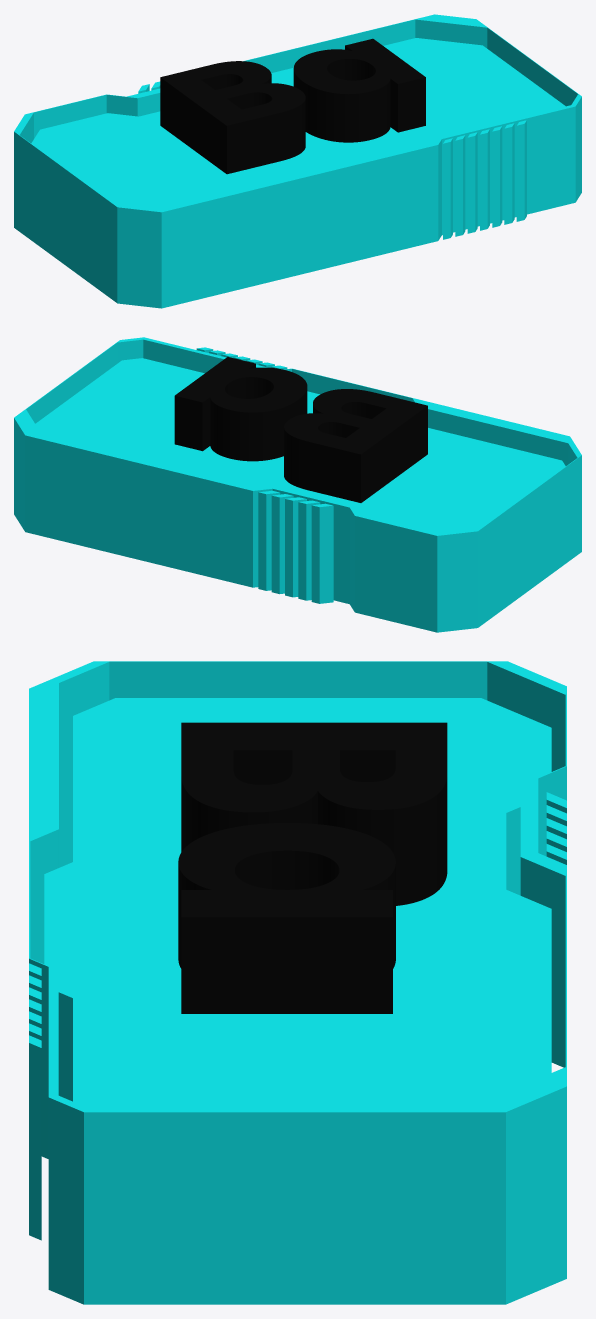
The model's file is 13.HurufBa.glb.
3 views of the same model, one above another, from view 1: azimuth 30°, elevation 25°; view 2: azimuth 150°, elevation 25°; view 3: azimuth 270°, elevation 25° (orthographic). The views are drawn at different scales.
Parts seen in each view (by area): view 1: Curve.216, Curve.210, Curve.224, Curve.225, Curve.219, Curve.222, Curve.223, Curve.218, Curve.221, Curve.217, Curve.220; view 2: Curve.216, Curve.210, Curve.224, Curve.225, Curve.215, Curve.214, Curve.211, Curve.213, Curve.212; view 3: Curve.216, Curve.210, Curve.225, Curve.224, Curve.223.
Boxes of the visible parts, x1,y1,x2,y2 form: Curve.216: (14, 14, 581, 308); Curve.210: (31, 38, 565, 208); Curve.224: (160, 61, 305, 174); Curve.225: (293, 38, 425, 142); Curve.219: (467, 132, 477, 233); Curve.222: (504, 123, 514, 224); Curve.223: (516, 120, 526, 221); Curve.218: (455, 135, 465, 236); Curve.221: (492, 126, 502, 227); Curve.217: (443, 138, 452, 239); Curve.220: (480, 129, 489, 230); Curve.216: (14, 337, 581, 632); Curve.210: (35, 358, 565, 533); Curve.224: (284, 389, 427, 502); Curve.225: (174, 357, 307, 461); Curve.215: (311, 503, 333, 603); Curve.214: (298, 500, 320, 600); Curve.211: (258, 490, 280, 590); Curve.213: (285, 497, 306, 597); Curve.212: (271, 494, 293, 594); Curve.216: (29, 661, 566, 1304); Curve.210: (44, 698, 551, 1111); Curve.225: (178, 823, 395, 1013); Curve.224: (181, 722, 447, 905); Curve.223: (29, 1035, 41, 1240).
Size of the model in its own units: 0.2966 by 0.0795 by 0.1496.
